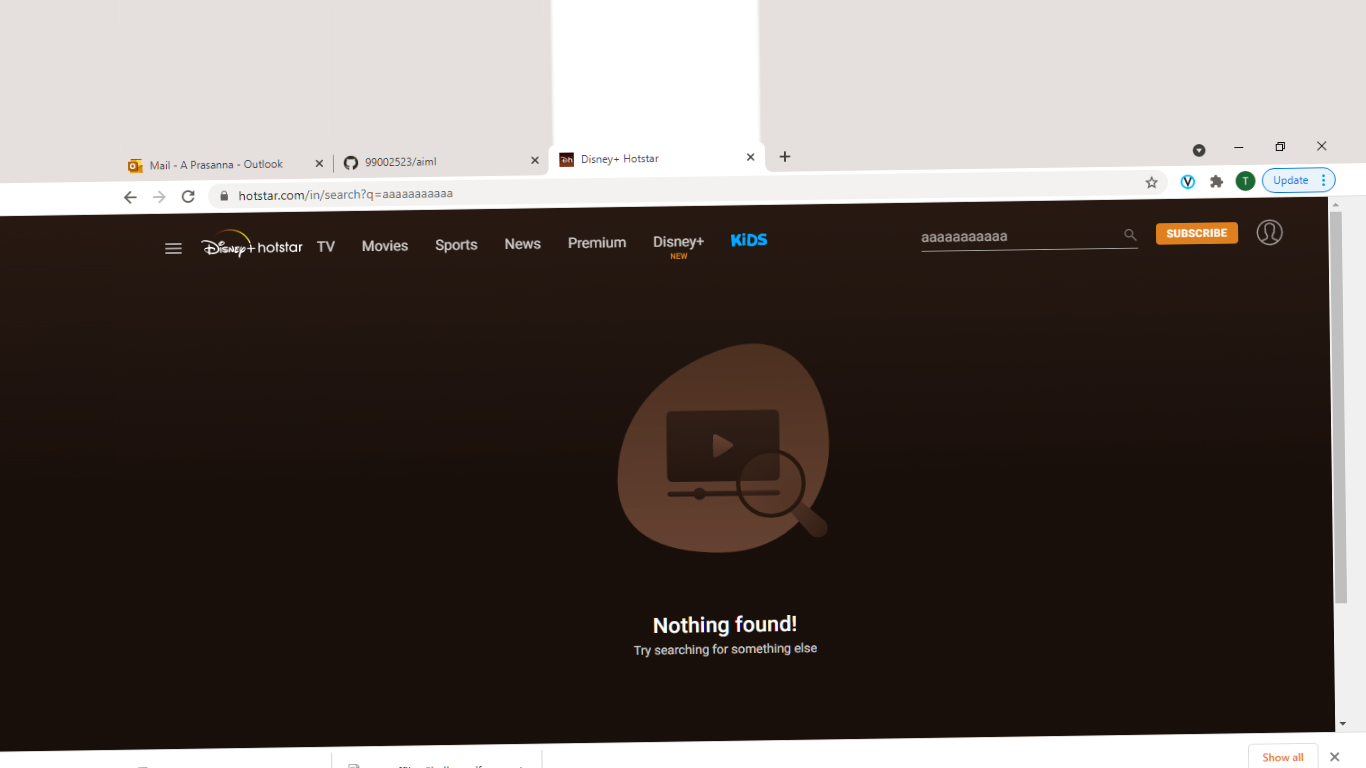profileicon: (1255, 216, 1283, 249)
searchicon: (1105, 220, 1148, 249)
searchtextbox: (912, 215, 1145, 252)
